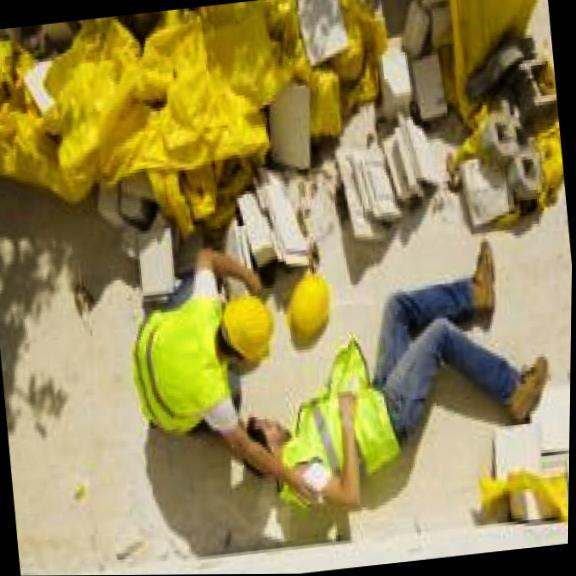safety_vest: (260, 329, 410, 511), (126, 287, 236, 439)
